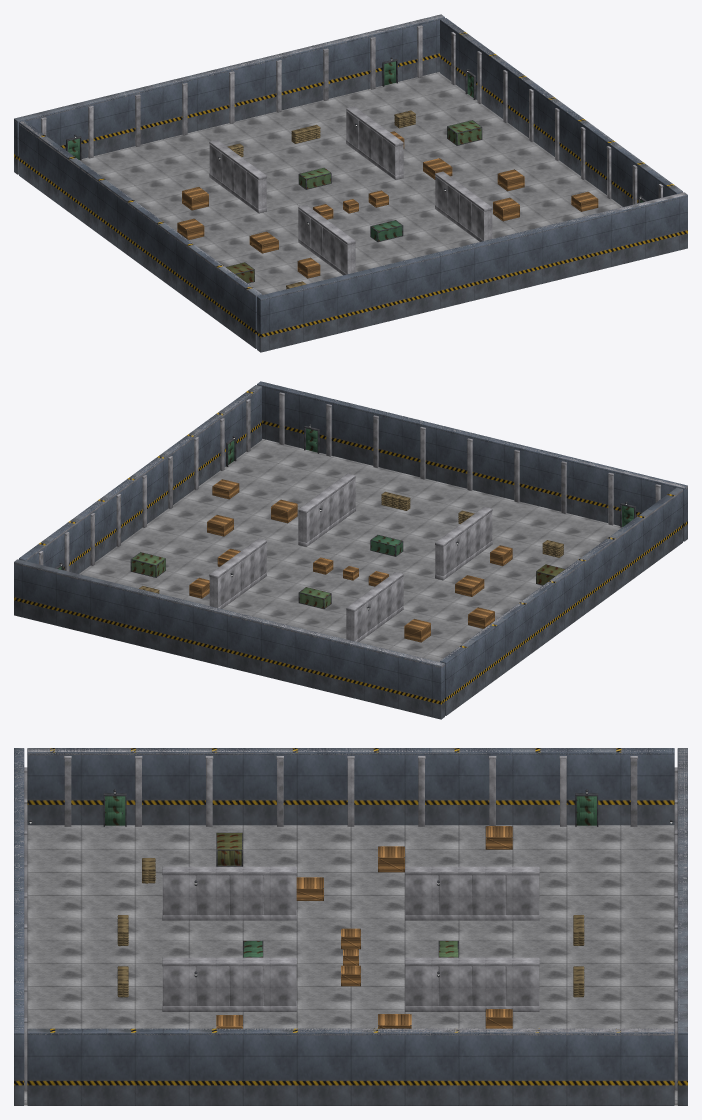
Rendered from map.glb.
3 views of the same model, one above another, from view 1: azimuth 30°, elevation 25°; view 2: azimuth 150°, elevation 25°; view 3: azimuth 270°, elevation 25° (orthographic). The views are drawn at different scales.
Visible parts, largest first — view 1: map; view 2: map; view 3: map.
Boxes of the visible parts, bbox=[...] form: map: bbox=[14, 14, 687, 352]; map: bbox=[14, 381, 687, 719]; map: bbox=[14, 748, 687, 1105].
Bounding box in the file's own units: 50 × 6.2 × 50.
Materials: 10 (9 with a texture image).
